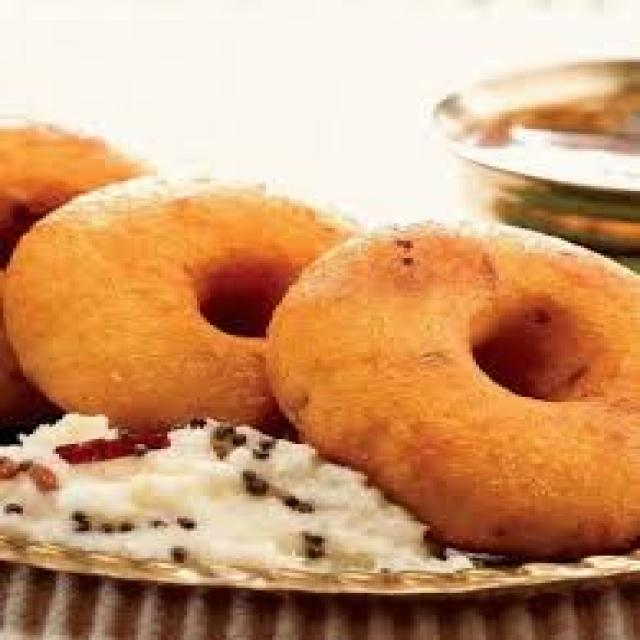MEDU VADA: (266, 226, 637, 553), (10, 181, 351, 424)
